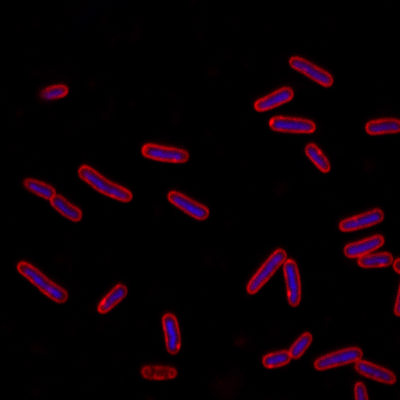Oblique: (34, 83, 68, 101)
Rifampicin: (23, 175, 83, 222), (15, 259, 69, 304), (75, 164, 134, 203), (259, 331, 313, 369), (245, 248, 287, 295), (286, 55, 334, 88), (166, 188, 210, 221), (311, 345, 364, 371), (356, 359, 398, 389), (253, 84, 296, 113), (342, 231, 386, 259), (281, 257, 303, 310), (141, 140, 189, 164), (158, 312, 183, 357), (95, 282, 129, 315), (337, 208, 385, 231), (268, 114, 317, 135), (303, 141, 331, 175), (363, 115, 400, 135), (356, 252, 393, 270)
